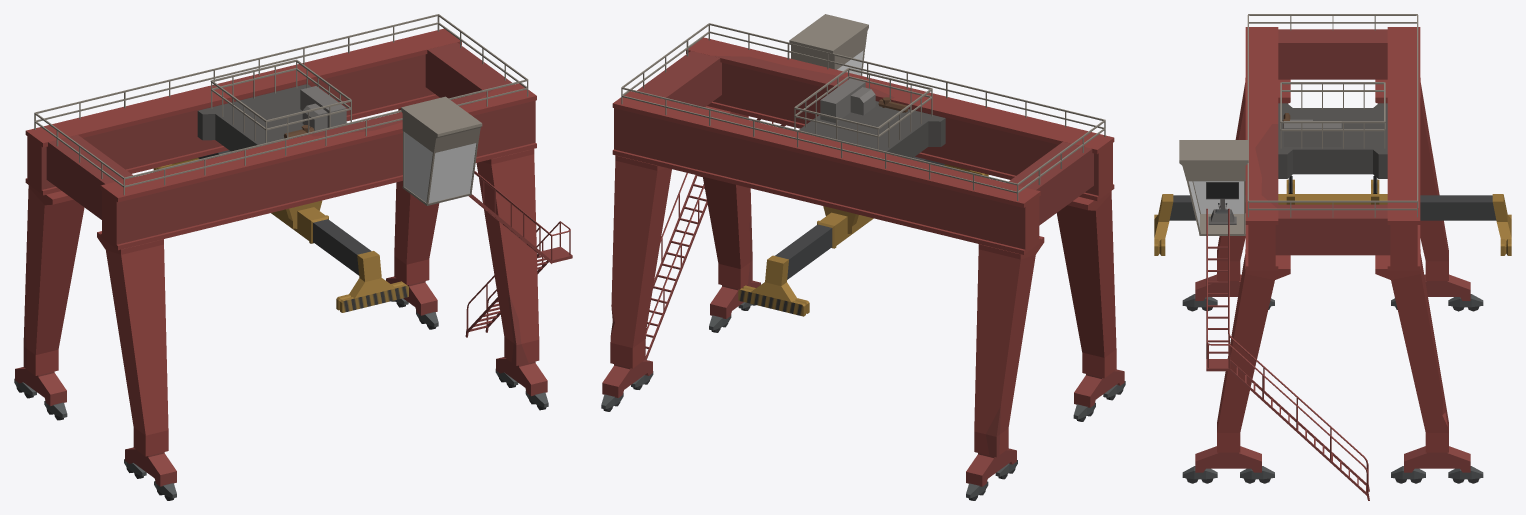
File: SM_Bldg_City_Harbour_Crane_Small.fbx
3 views of the same model, side by side, from view 1: azimuth 30°, elevation 25°; view 2: azimuth 150°, elevation 25°; view 3: azimuth 270°, elevation 25° (orthographic). The views are drawn at different scales.
Parts seen in each view (by area): view 1: SM_Bldg_City_Harbour_Crane_Small, SM_Bldg_City_Harbour_Crane_Small_Spreader; view 2: SM_Bldg_City_Harbour_Crane_Small, SM_Bldg_City_Harbour_Crane_Small_Spreader; view 3: SM_Bldg_City_Harbour_Crane_Small, SM_Bldg_City_Harbour_Crane_Small_Spreader.
Part boxes in pixels (x1=…): SM_Bldg_City_Harbour_Crane_Small: x1=14, y1=14, x2=572, y2=500; SM_Bldg_City_Harbour_Crane_Small_Spreader: x1=153, y1=150, x2=408, y2=312; SM_Bldg_City_Harbour_Crane_Small: x1=601, y1=14, x2=1125, y2=500; SM_Bldg_City_Harbour_Crane_Small_Spreader: x1=738, y1=157, x2=988, y2=316; SM_Bldg_City_Harbour_Crane_Small: x1=1179, y1=14, x2=1483, y2=500; SM_Bldg_City_Harbour_Crane_Small_Spreader: x1=1154, y1=176, x2=1511, y2=255.
Size of the model in its own units: 16.56 by 11.31 by 12.44.
